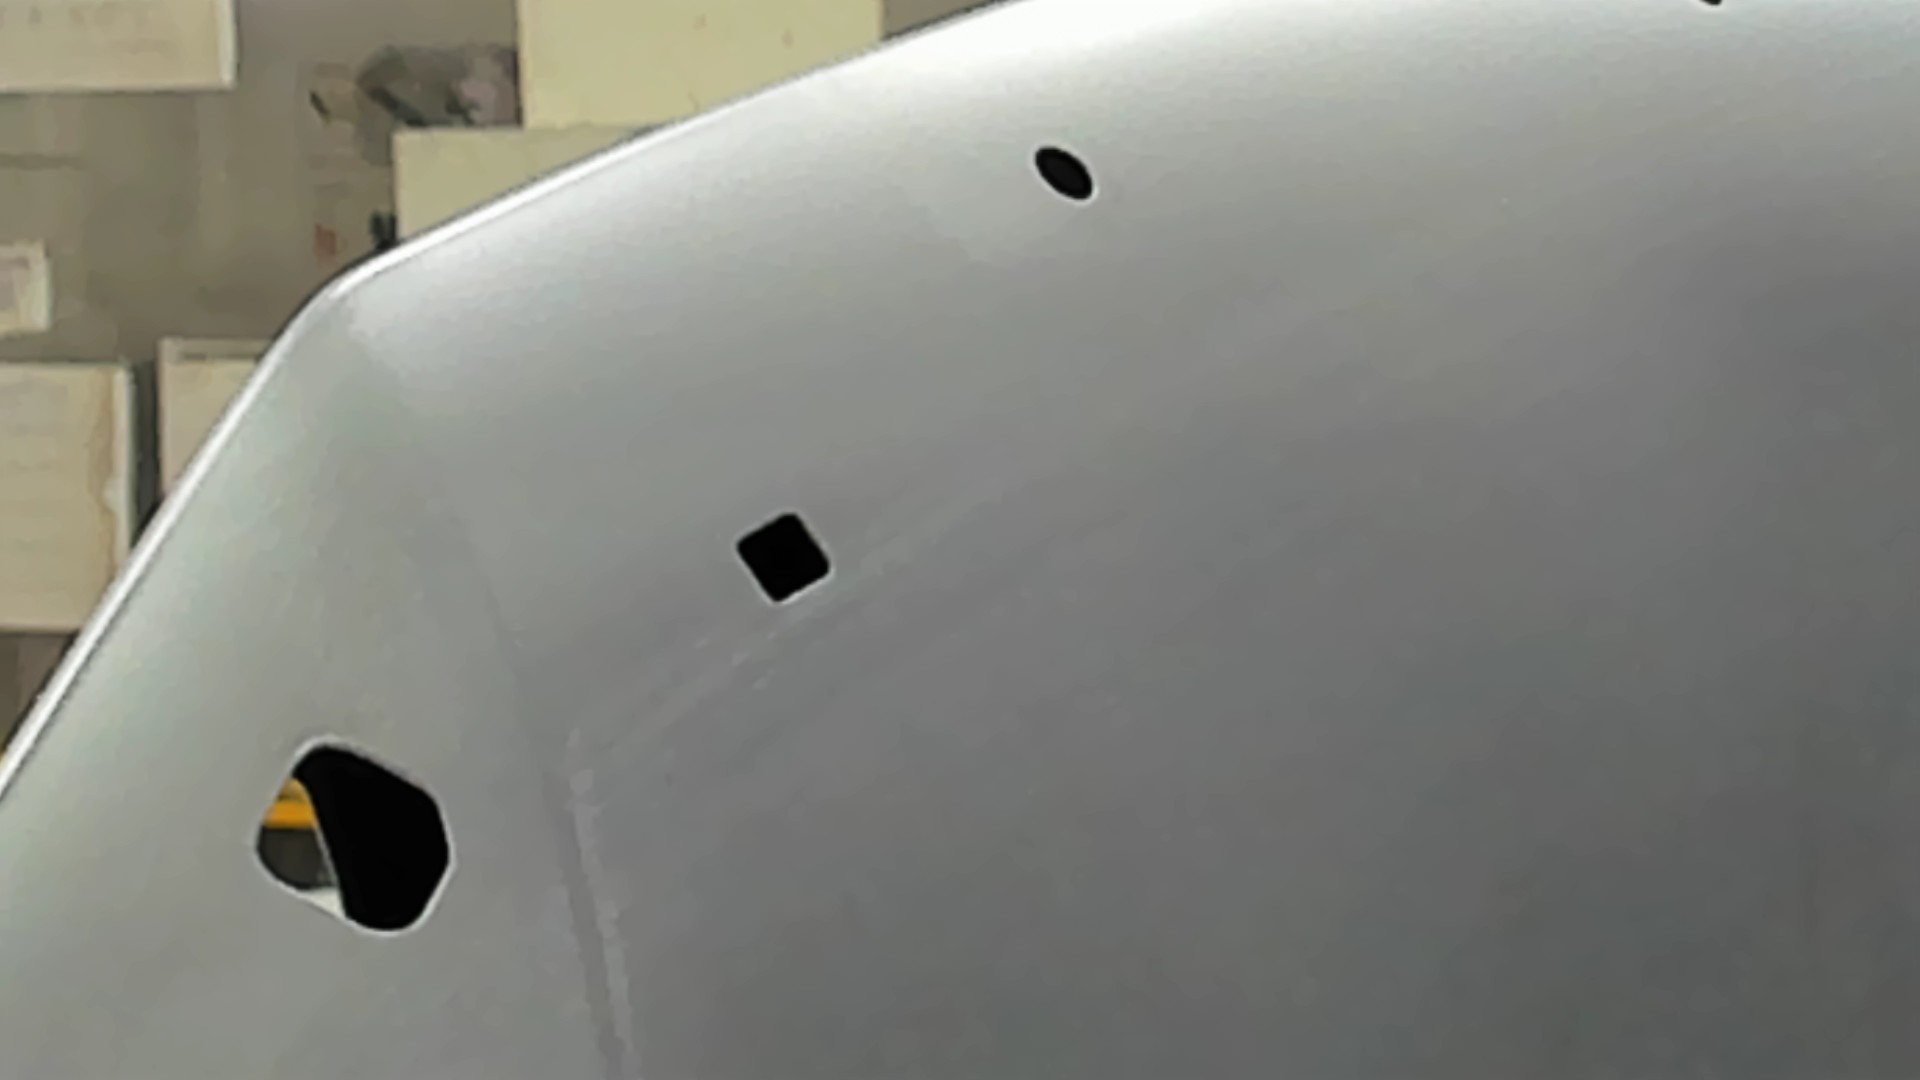chico: (1029, 140, 1101, 208)
grande: (252, 732, 458, 942)
mediano: (735, 508, 836, 607)
